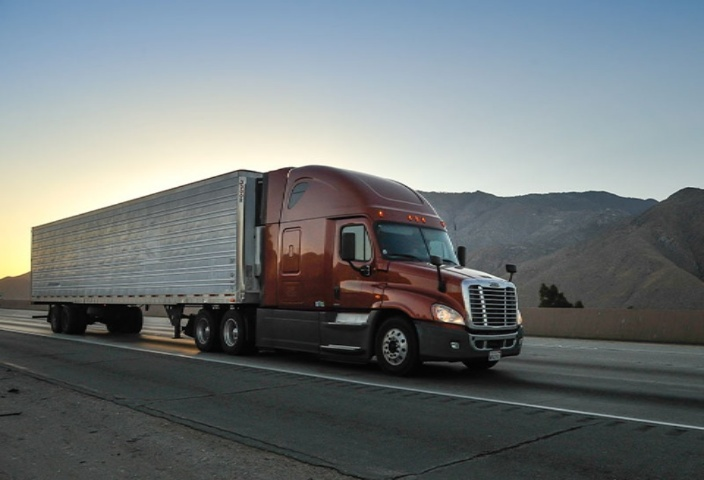truck: (14, 162, 537, 381)
